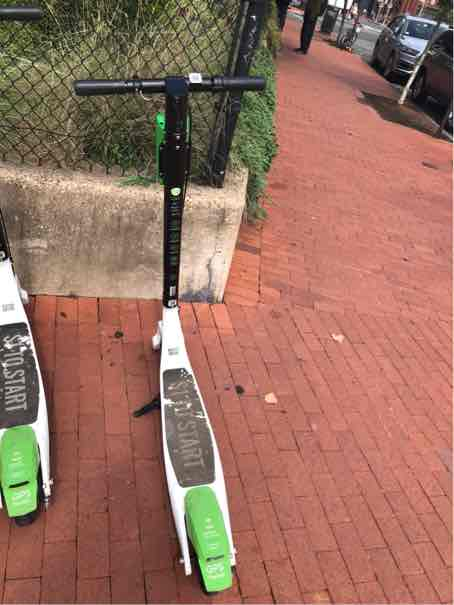scooter: (56, 63, 281, 605)
